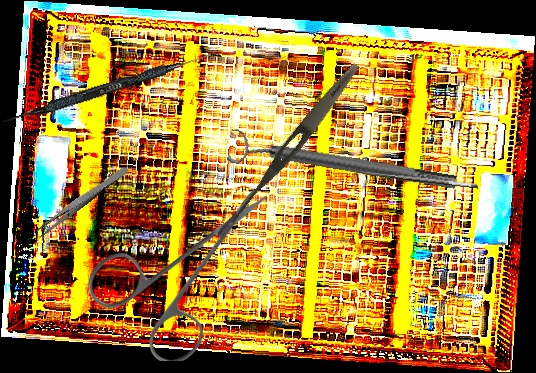Dressing Forceps: (225, 59, 364, 229), (33, 163, 130, 240)
Fixation Ring: (226, 125, 459, 203)
Hook Surgical: (352, 167, 479, 199)
Iris Scissors: (88, 190, 267, 361)
Spatula Surgical: (1, 44, 221, 131)
